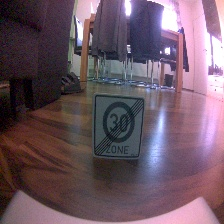dreisiger_zone_ende: (91, 92, 145, 162)
